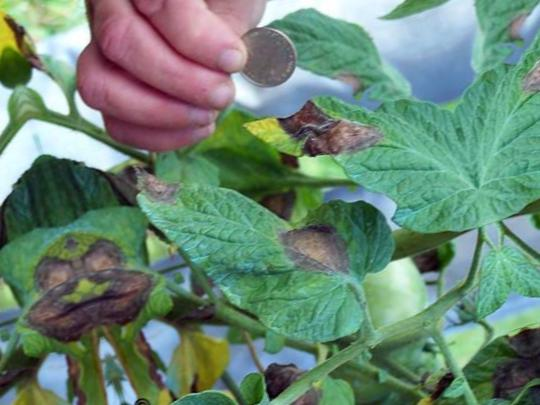Tomato leaf late blight: (117, 90, 425, 401), (234, 45, 488, 290), (123, 358, 302, 405)
